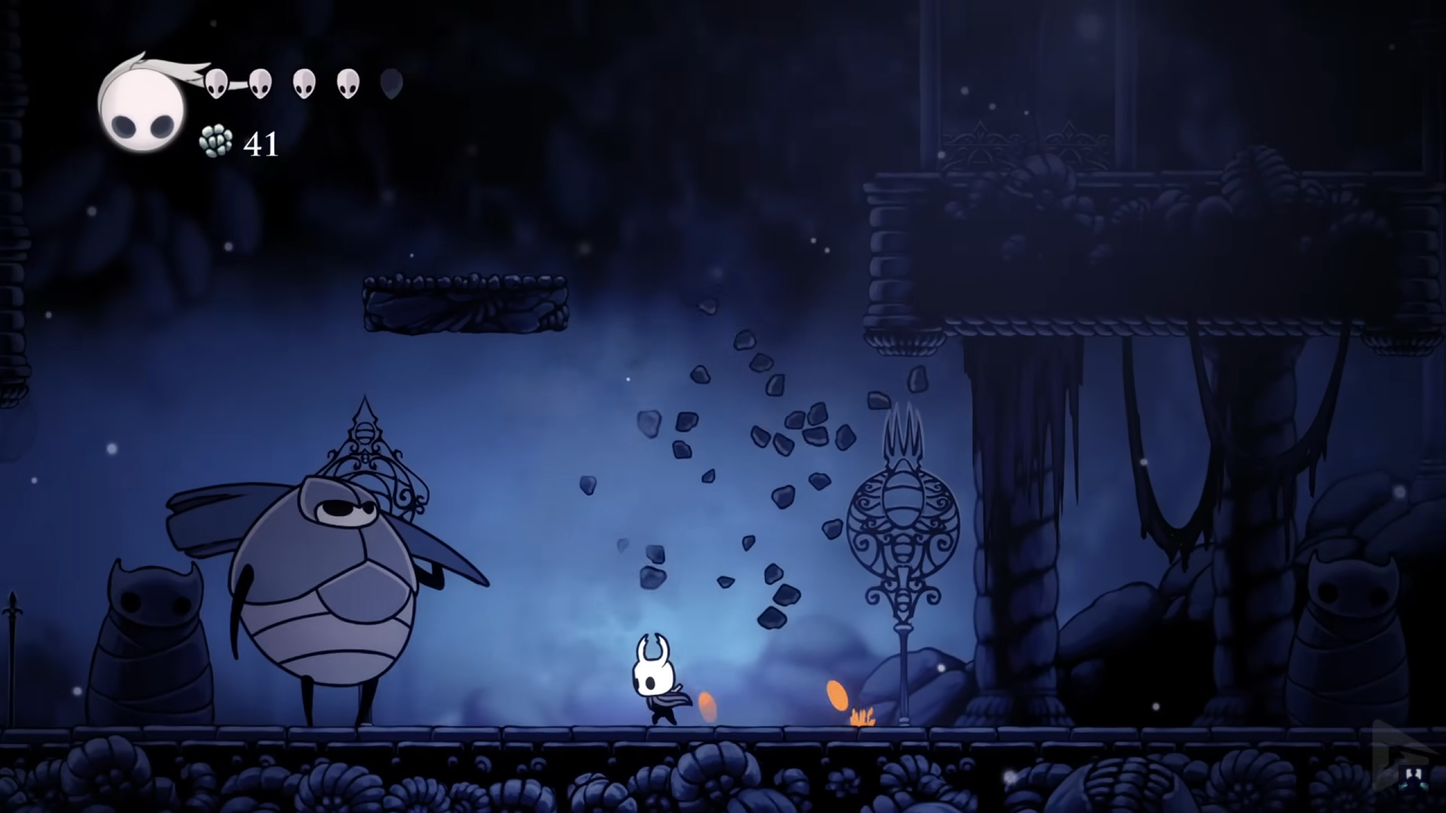HK: (628, 634, 691, 727)
